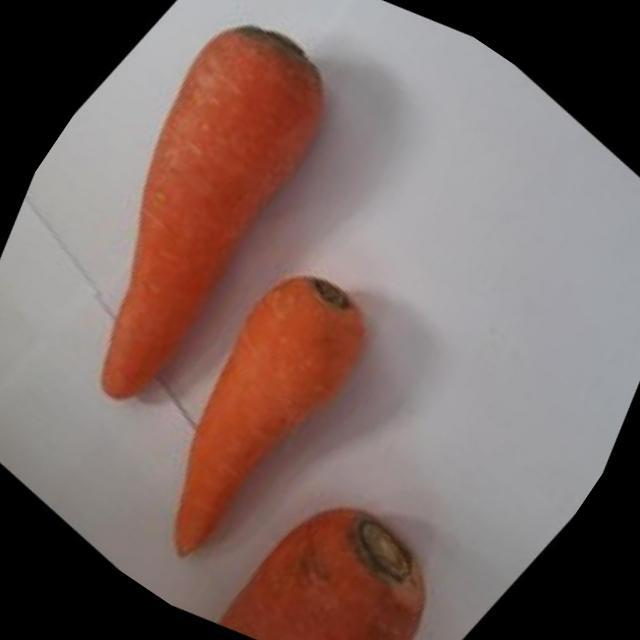carrot: (0, 0, 521, 533), (6, 160, 486, 640), (162, 387, 537, 640)
